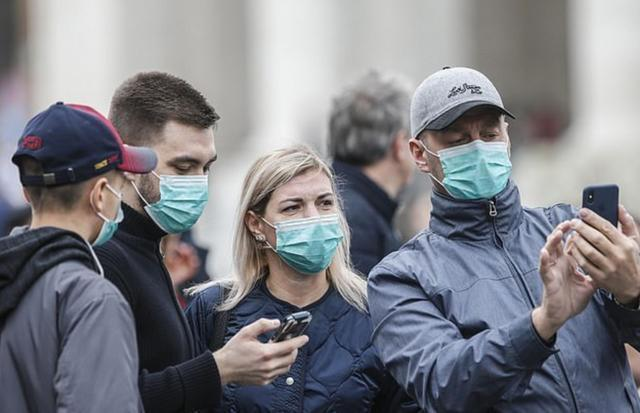mask: (430, 97, 517, 210), (147, 106, 221, 236), (264, 168, 345, 275)
